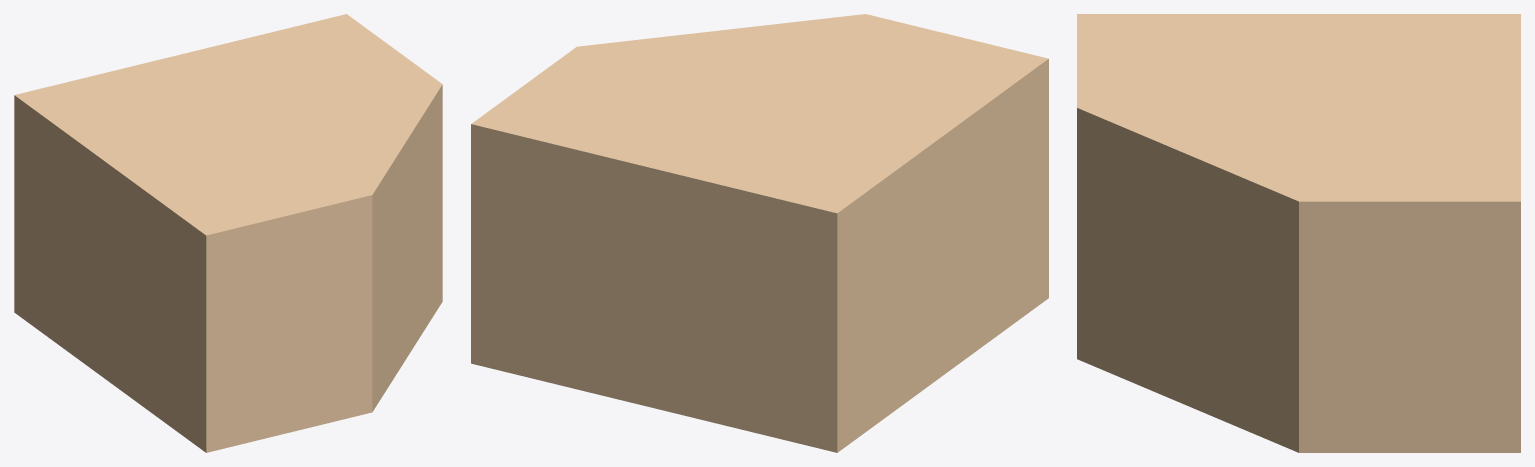
The model's file is building-corner.obj.
3 renders of one model, left to right at view 1: azimuth 30°, elevation 25°; view 2: azimuth 150°, elevation 25°; view 3: azimuth 270°, elevation 25°, orthographic. The views are drawn at different scales.
Size of the model in its own units: 1 by 0.625 by 1.
